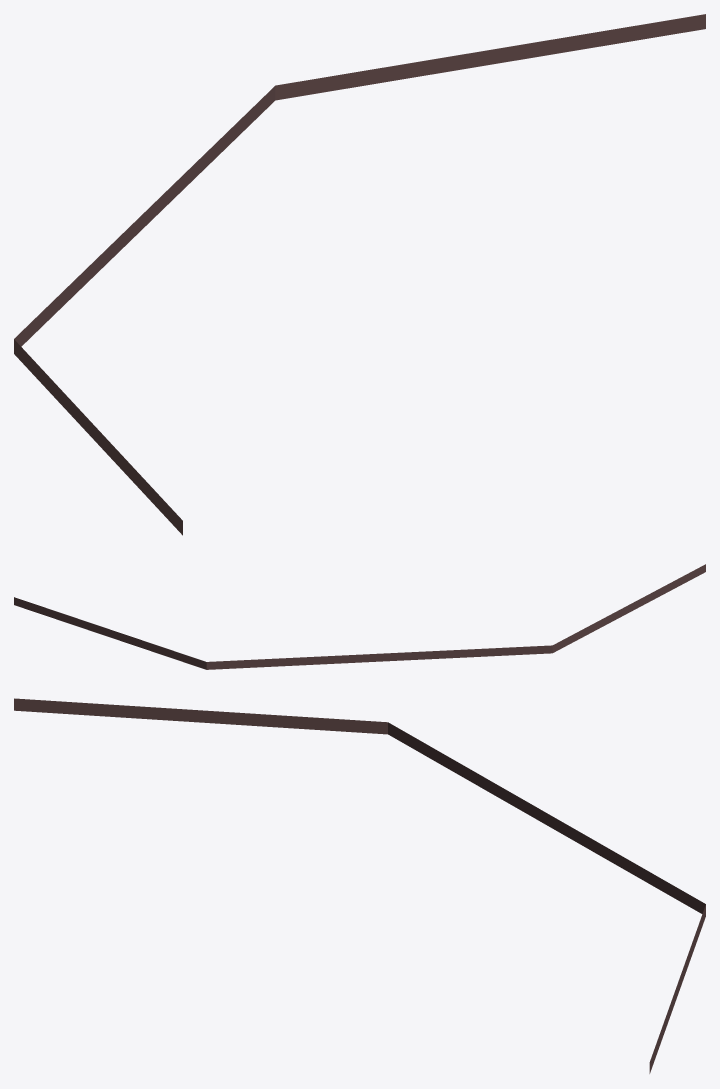
The model's file is Lip_shader.fbx.
The picture shows the model from 3 angles, top to bottom: view 1: azimuth 30°, elevation 25°; view 2: azimuth 150°, elevation 25°; view 3: azimuth 270°, elevation 25°; orthographic projection. The views are drawn at different scales.
Visible parts, largest first — view 1: Lip; view 2: Lip; view 3: Lip.
Boxes of the visible parts, box(x1,y1,x2,y2) form: Lip: box(14, 14, 705, 535); Lip: box(14, 564, 705, 669); Lip: box(14, 698, 705, 1073).
Bounding box in the file's own units: 0.0779 × 0.00122 × 0.0627.
